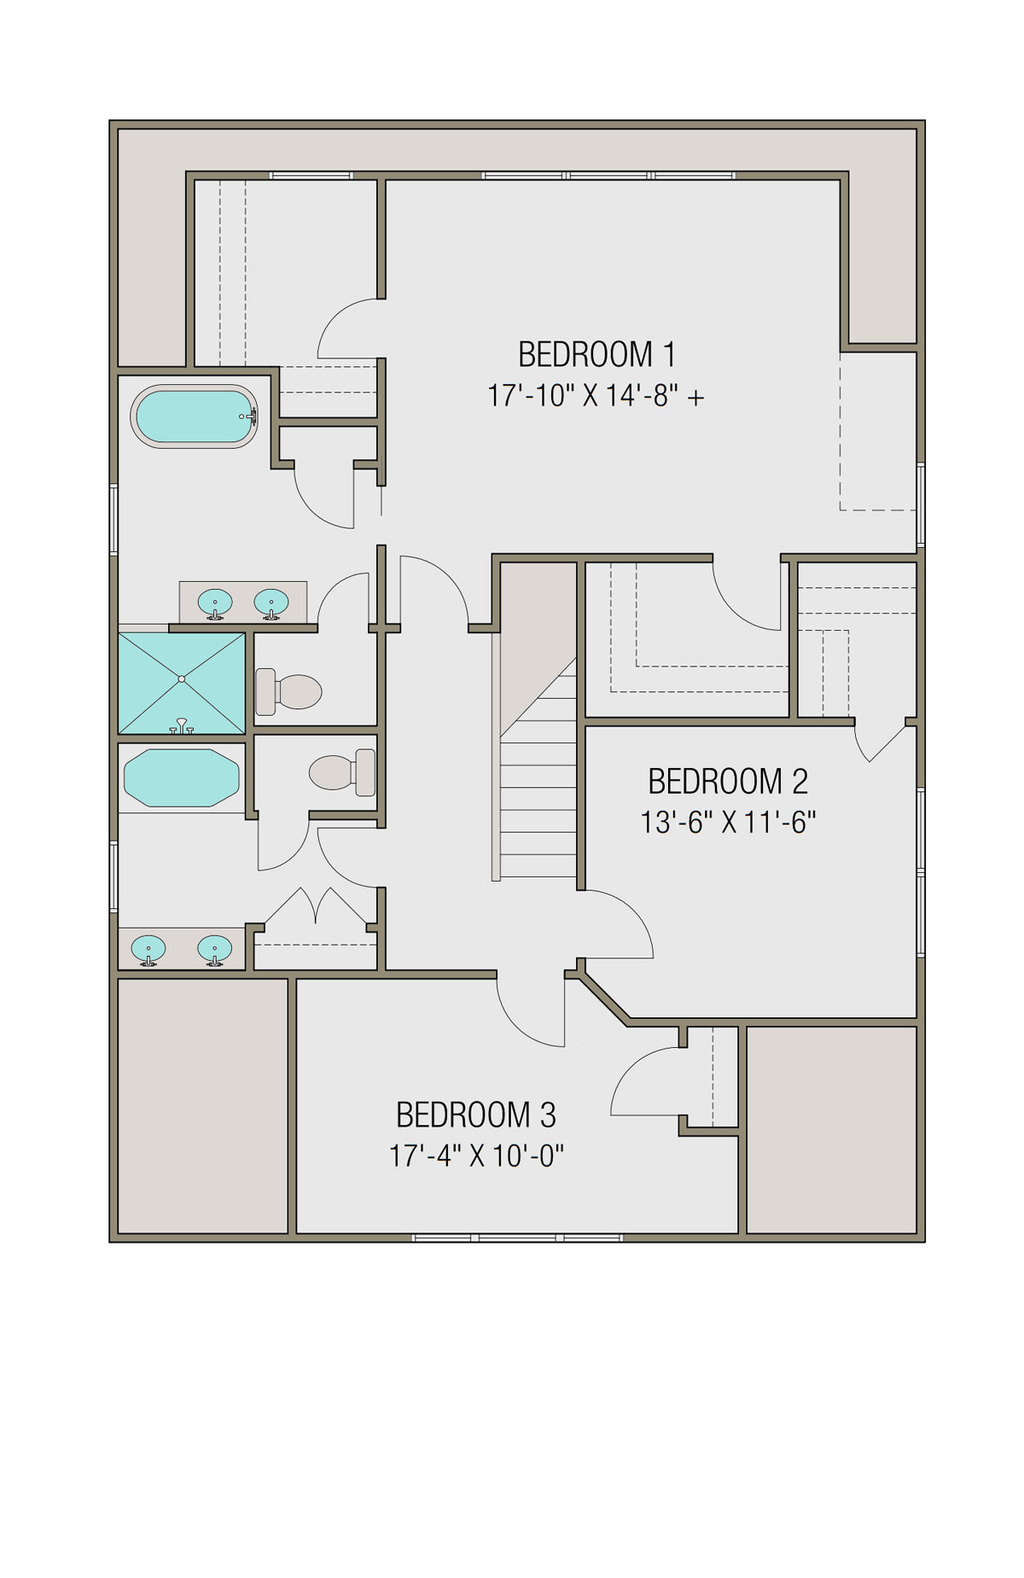door: (486, 962, 581, 1066), (705, 544, 786, 658), (605, 1044, 703, 1134), (573, 880, 664, 971), (308, 283, 410, 363), (283, 454, 373, 534), (395, 551, 473, 639), (244, 888, 376, 939), (249, 807, 318, 878), (308, 566, 388, 627), (849, 723, 934, 780), (315, 822, 383, 888)
large_sink: (305, 731, 385, 819), (247, 656, 329, 723)
small_sink: (168, 570, 308, 625), (122, 919, 251, 975)
stairs: (481, 551, 662, 888)
tub: (112, 736, 263, 829), (122, 366, 276, 451)
window: (417, 1217, 634, 1261)
